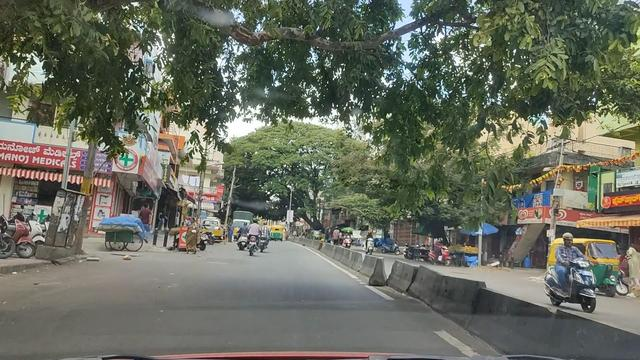RoadDamages: (27, 264, 75, 296)
